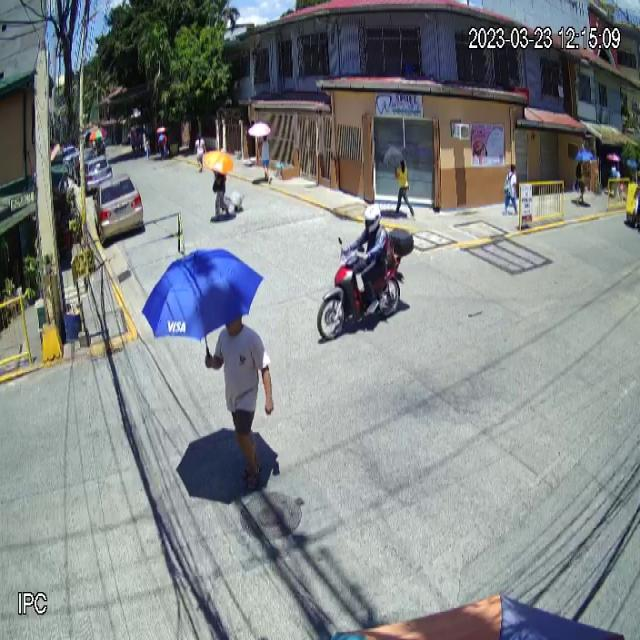Motorcycle: (317, 227, 414, 343)
